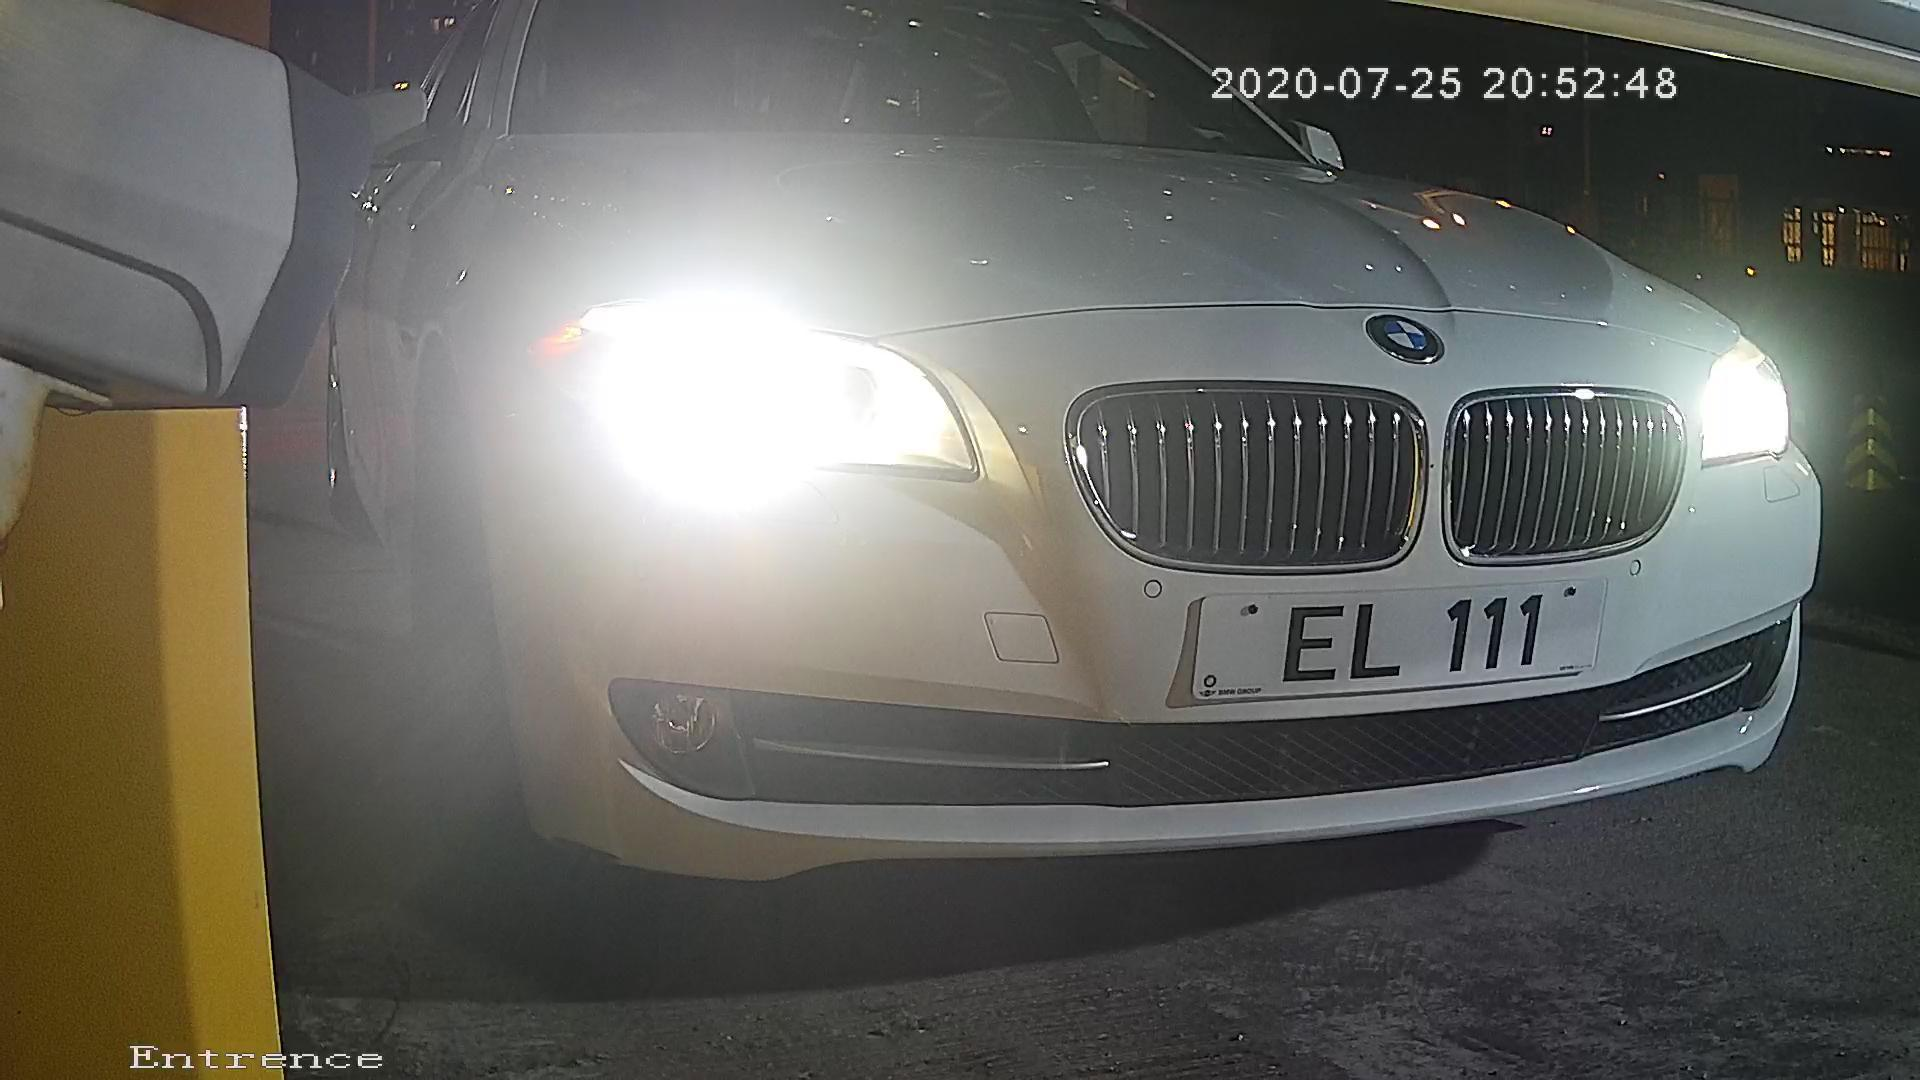privatecar: (446, 15, 1801, 873)
